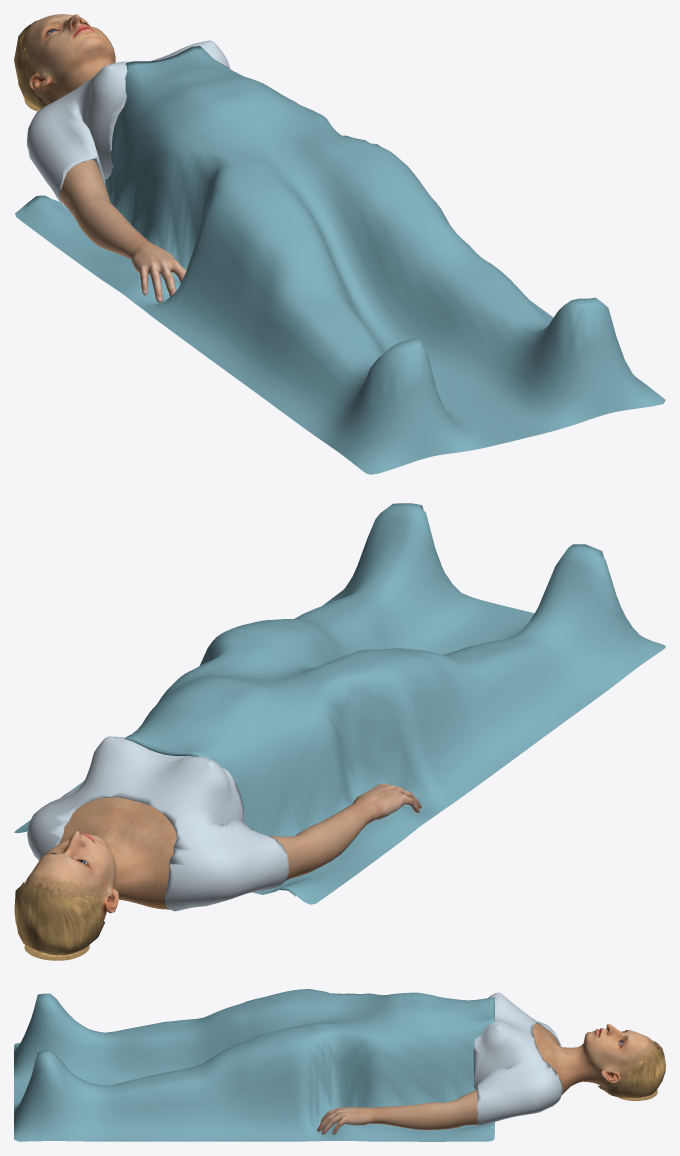
The picture shows the model from 3 angles, top to bottom: view 1: azimuth 30°, elevation 25°; view 2: azimuth 150°, elevation 25°; view 3: azimuth 270°, elevation 25°; orthographic projection. The views are drawn at different scales.
Visible parts, largest first — view 1: sheet, gown, arms, body, hair; view 2: sheet, gown, body, hair, arms; view 3: sheet, gown, body, arms, hair.
Boxes of the visible parts, left/top/right/bottom form: sheet: left=15, top=46, right=665, bottom=474; gown: left=27, top=40, right=229, bottom=209; arms: left=60, top=159, right=186, bottom=302; body: left=21, top=14, right=115, bottom=104; hair: left=14, top=20, right=46, bottom=111; sheet: left=14, top=503, right=665, bottom=904; gown: left=27, top=736, right=288, bottom=911; body: left=25, top=797, right=176, bottom=921; hair: left=14, top=881, right=104, bottom=960; arms: left=270, top=783, right=421, bottom=881; sheet: left=14, top=989, right=494, bottom=1141; gown: left=473, top=992, right=562, bottom=1125; body: left=533, top=1023, right=657, bottom=1094; arms: left=317, top=1090, right=477, bottom=1134; hair: left=598, top=1040, right=665, bottom=1100.
Size of the model in its own units: 0.6406 by 0.2787 by 1.79.
8 materials, 6 textured.
